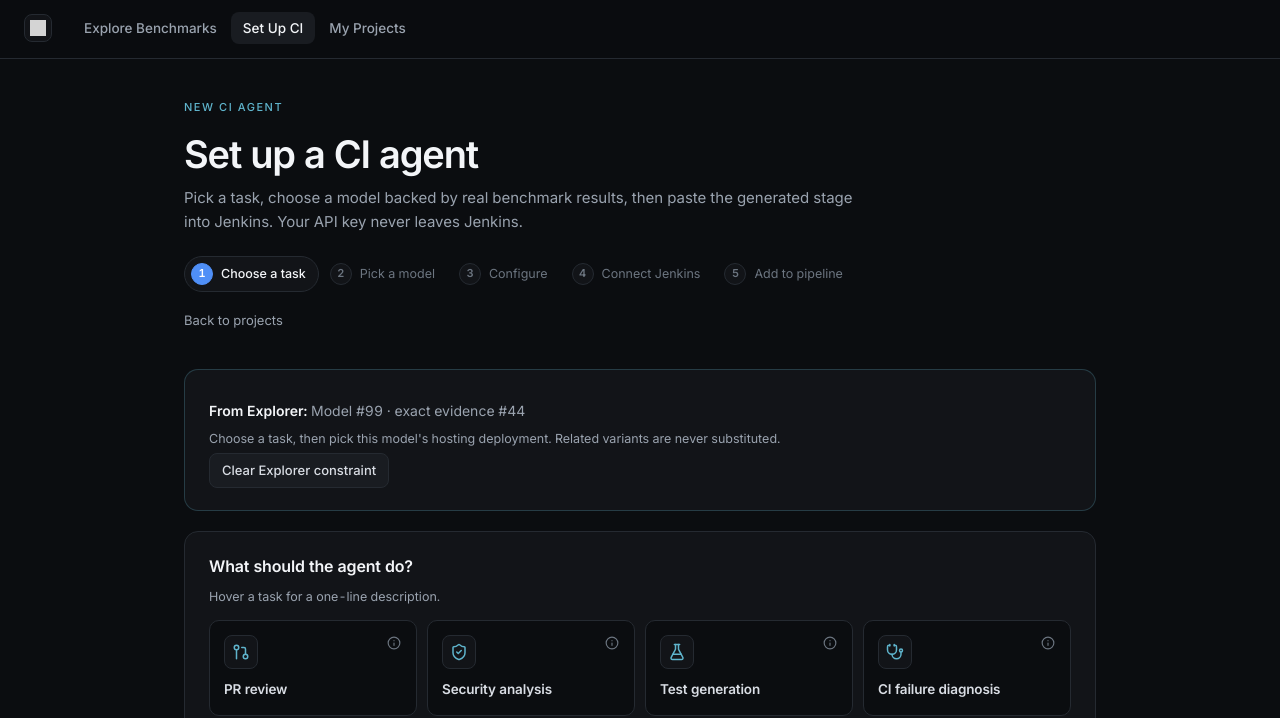
Scenario: keeps an unsupported explorer model visible without substituting another variant
Click the radio button labelled "PR review".
click(256, 666)  # box [224,635,287,697]
(page scrolled)
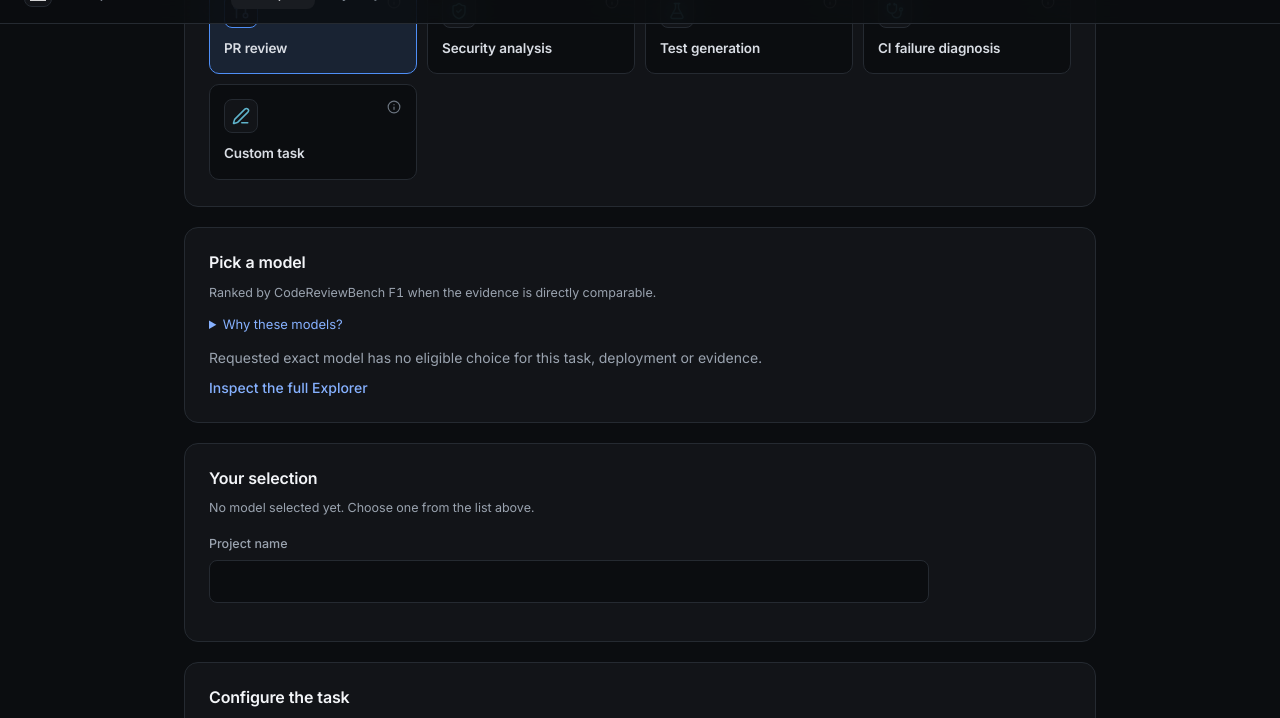
Expected: the text "Requested exact model has no eligible choice" is shown, [209,349,762,366]
